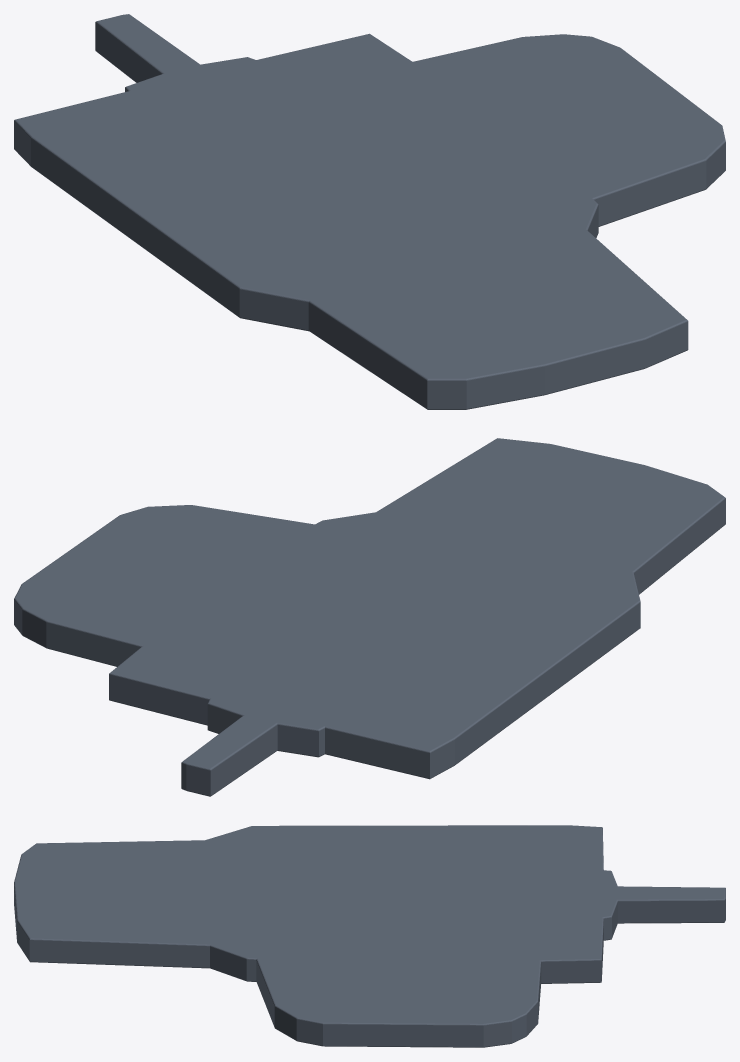
File: the-quencher-h2-0-flowstate-tumbler-trace-c84baea8c2.glb
3 renders of one model, top to bottom at view 1: azimuth 30°, elevation 25°; view 2: azimuth 150°, elevation 25°; view 3: azimuth 270°, elevation 25°, orthographic. The views are drawn at different scales.
Parts seen in each view (by area): view 1: flat_item_body; view 2: flat_item_body; view 3: flat_item_body.
Boxes of the visible parts, left/top/right/bottom form: flat_item_body: left=14, top=14, right=725, bottom=409; flat_item_body: left=14, top=438, right=725, bottom=796; flat_item_body: left=14, top=825, right=725, bottom=1047.
Bounding box in the file's own units: 79.49 × 4.4 × 120.
